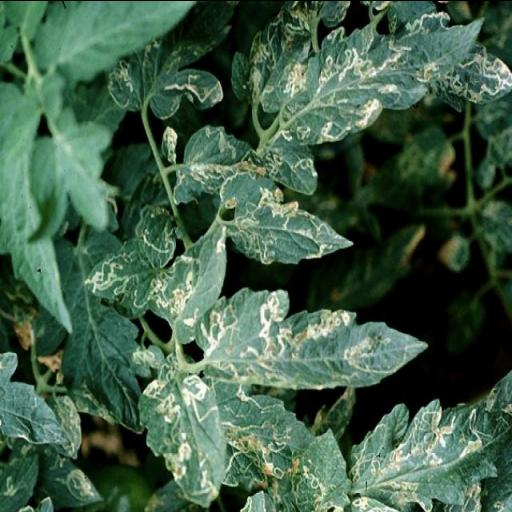Leaf Miner: (279, 14, 485, 146), (194, 286, 426, 390), (346, 398, 511, 512), (220, 170, 354, 265), (137, 371, 226, 512), (146, 223, 226, 343)
